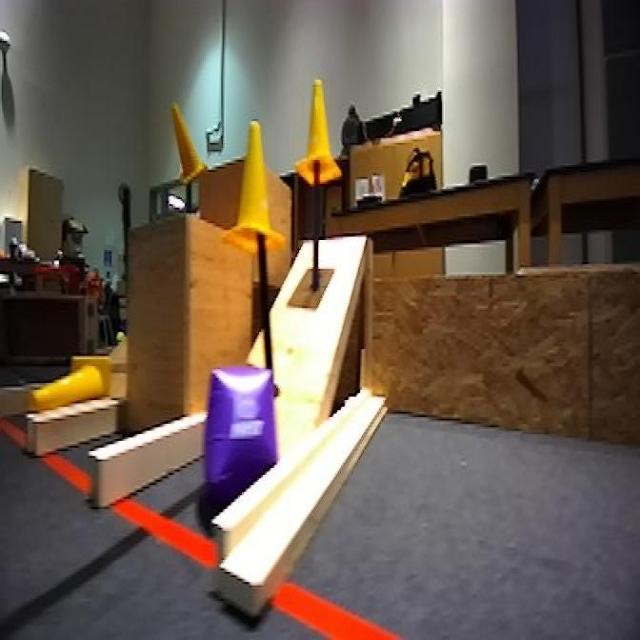frc_cone: (230, 130, 284, 250), (25, 352, 112, 422), (296, 78, 340, 185), (169, 88, 203, 184)
frc_cube: (198, 359, 279, 507)
